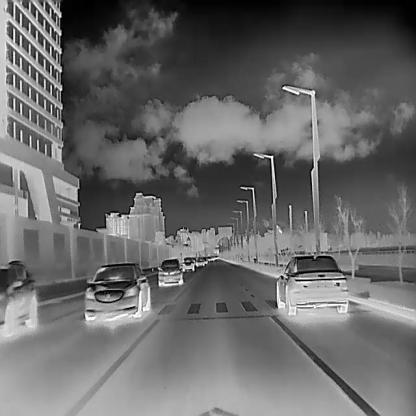car: (275, 254, 348, 315), (84, 261, 149, 320), (0, 258, 36, 336), (157, 258, 183, 286), (181, 256, 194, 270), (195, 256, 205, 265), (205, 254, 212, 260), (213, 255, 218, 259)
